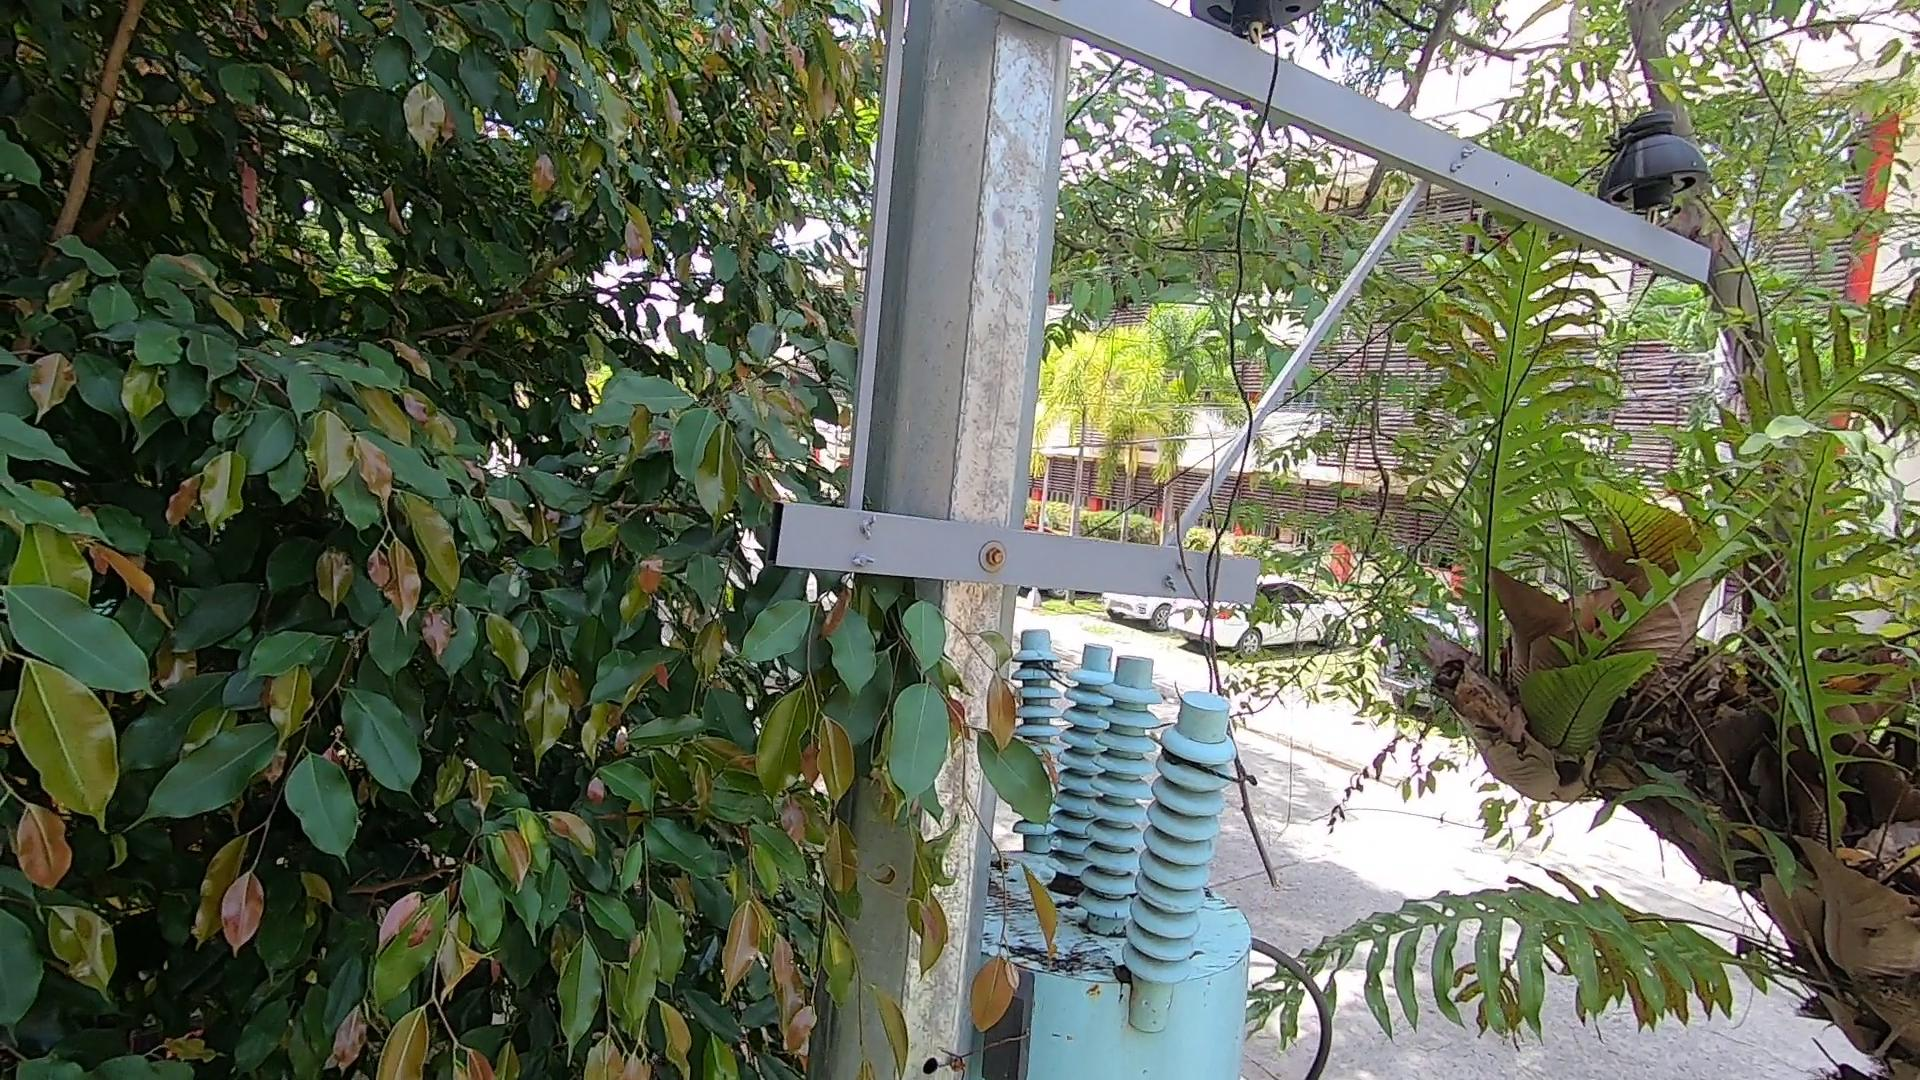tree branch: (1145, 436, 1309, 891)
